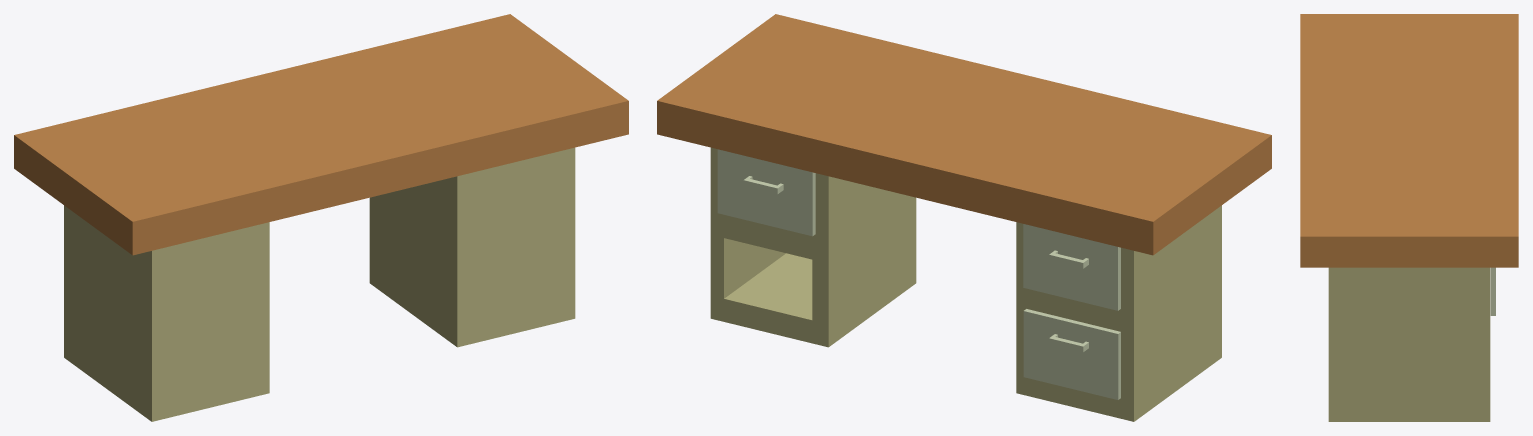
File: Escritorio.obj
3 views of the same model, side by side, from view 1: azimuth 30°, elevation 25°; view 2: azimuth 150°, elevation 25°; view 3: azimuth 270°, elevation 25° (orthographic). The views are drawn at different scales.
Visible parts, largest first — view 1: Escritorio:pCube1, Escritorio:pCube21, archiveroIzq; view 2: Escritorio:pCube1, archiveroIzq, Escritorio:pCube21, Escritorio:pCube23, Escritorio:pCube14, Escritorio:pCube24; view 3: Escritorio:pCube1, archiveroIzq, Escritorio:pCube14.
Boxes of the visible parts, <box> form: Escritorio:pCube1: <box>14,14,628,255</box>; Escritorio:pCube21: <box>64,205,269,421</box>; archiveroIzq: <box>369,147,575,347</box>; Escritorio:pCube1: <box>657,14,1271,255</box>; archiveroIzq: <box>710,147,916,347</box>; Escritorio:pCube21: <box>1016,205,1221,421</box>; Escritorio:pCube23: <box>1023,309,1120,399</box>; Escritorio:pCube14: <box>717,149,815,236</box>; Escritorio:pCube24: <box>1023,224,1120,310</box>; Escritorio:pCube1: <box>1300,14,1518,267</box>; archiveroIzq: <box>1328,267,1490,421</box>; Escritorio:pCube14: <box>1490,267,1495,315</box>.
Size of the model in its own units: 9.84 by 4.16 by 4.07.
10 materials, 9 textured.
